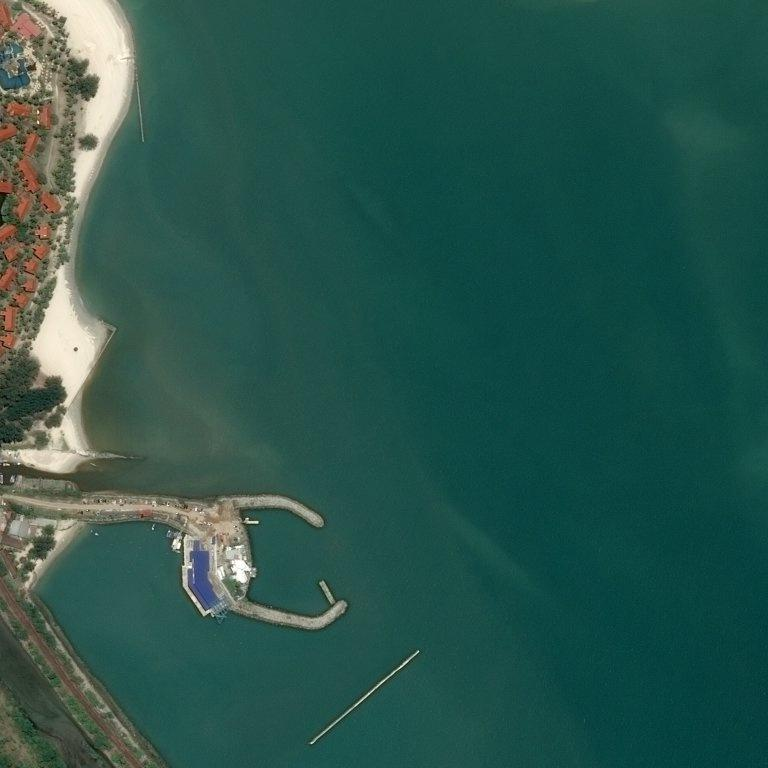ship: (18, 532, 22, 536), (74, 526, 79, 527), (153, 523, 155, 525), (152, 529, 153, 530), (97, 534, 98, 535), (79, 533, 80, 534), (154, 530, 155, 530), (95, 535, 96, 535)
